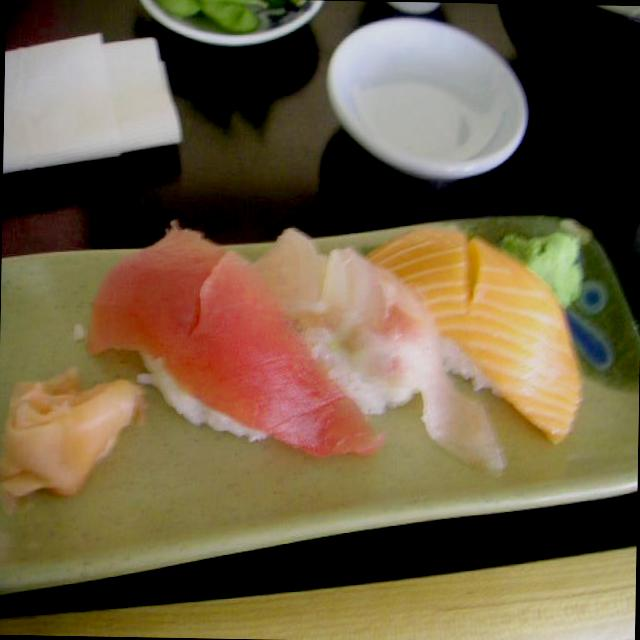Sushi: (86, 202, 584, 476)
